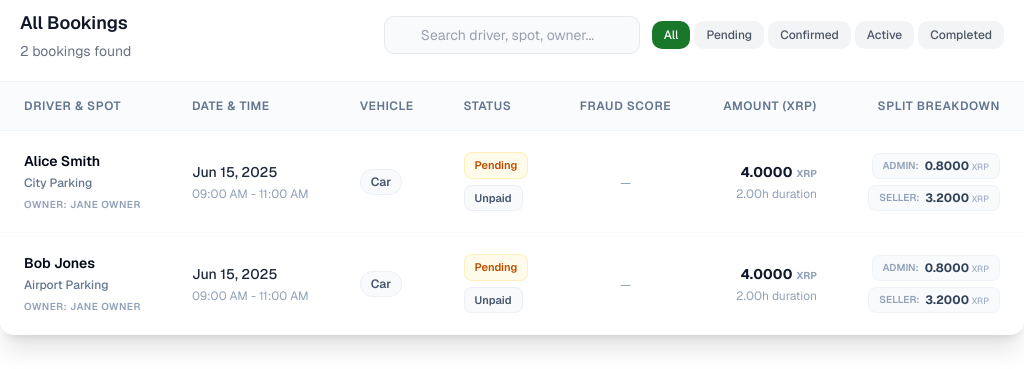
Test case: BookingTable Component › Search Functionality › search filters by spot title
Expected: the text "Alice Smith" is shown, [24,152,100,170]
In the field with placeholder "Search driver, spot, owner...": (512, 35) [384,16,640,54], type "Airport"
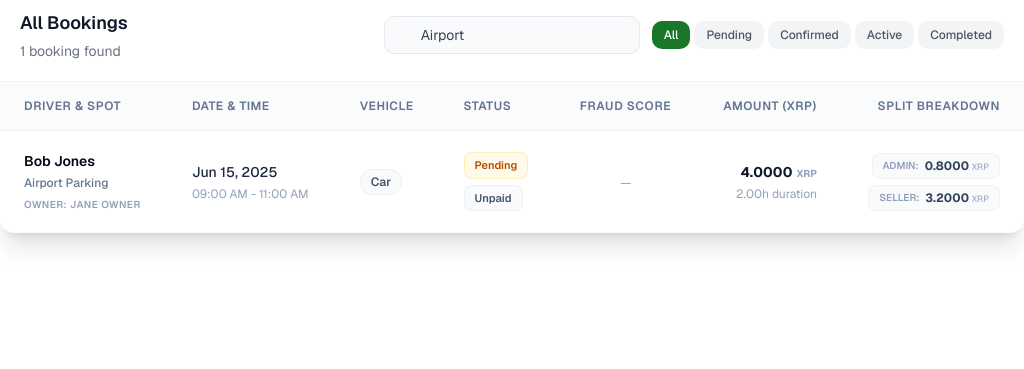
Expected: the text "Airport Parking" is shown, [24,175,108,191]
Expected: the text "City Parking" is gone
